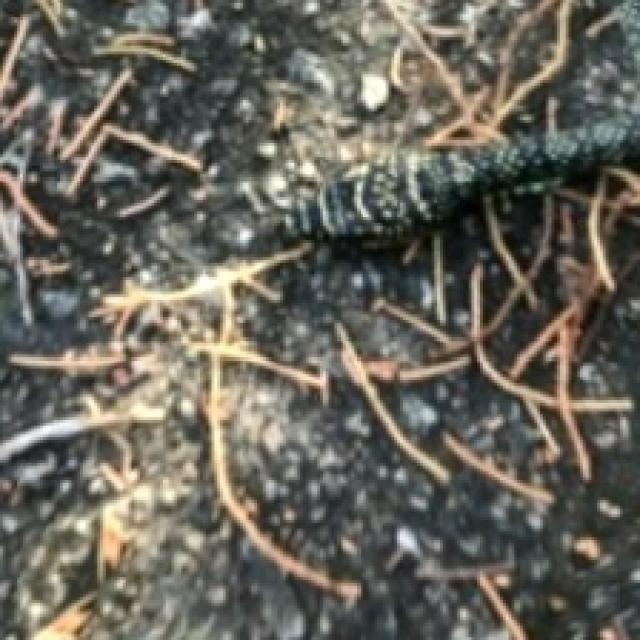paradise tree snake: (260, 0, 637, 231)
